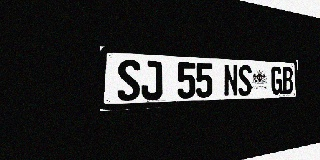5: (178, 62, 196, 99), (196, 63, 213, 98)
B: (282, 67, 293, 94)
G: (271, 66, 282, 95)
J: (141, 60, 162, 100)
N: (223, 64, 238, 97)
S: (117, 59, 140, 101), (238, 65, 252, 96)
